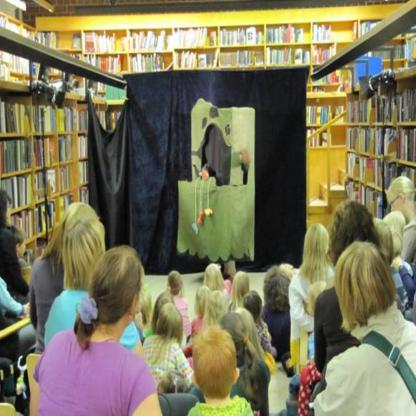book: (0, 15, 415, 266), (197, 54, 206, 66)
